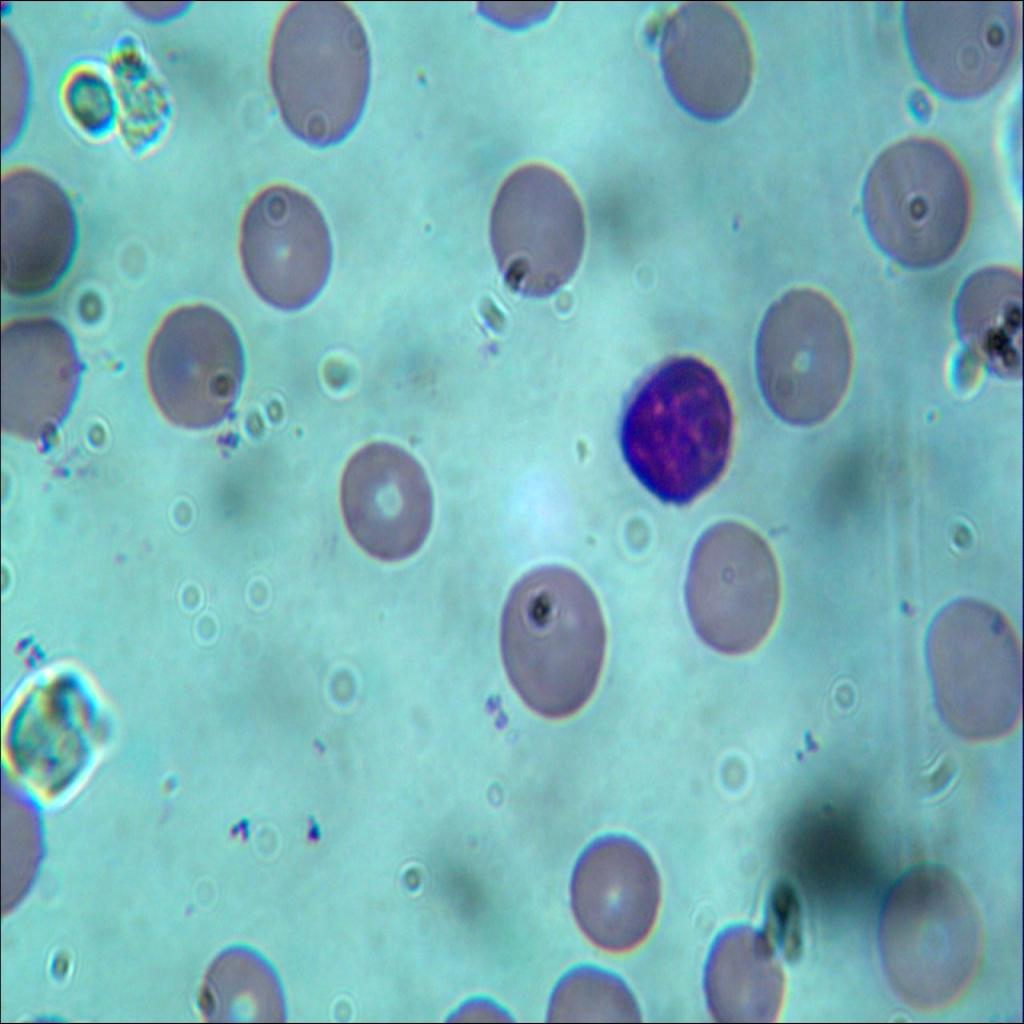Eritrosit: (499, 568, 606, 722), (871, 865, 986, 1008), (918, 592, 1024, 745), (267, 0, 370, 148), (754, 284, 855, 431), (859, 142, 969, 271), (684, 522, 788, 658), (139, 302, 242, 435), (332, 442, 438, 568), (488, 162, 583, 302), (650, 2, 754, 126), (239, 186, 335, 312), (568, 832, 659, 953), (0, 171, 76, 302), (0, 314, 75, 442), (702, 925, 791, 1023), (199, 945, 288, 1023)
Limfosit: (612, 354, 738, 506)
Platelet: (298, 812, 324, 854), (981, 609, 1009, 644), (489, 708, 516, 738), (892, 591, 918, 622), (479, 685, 504, 716), (229, 815, 253, 845)
